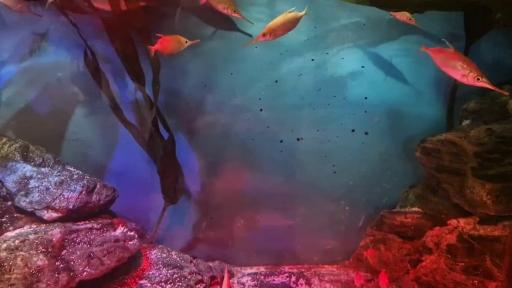Fish: (422, 39, 509, 95), (243, 6, 307, 46), (181, 6, 252, 37), (361, 48, 412, 87), (200, 0, 253, 24), (148, 34, 199, 56), (0, 0, 41, 17), (389, 12, 421, 27), (364, 248, 383, 269), (364, 248, 378, 266), (91, 0, 111, 11), (378, 270, 389, 287), (222, 266, 230, 287), (354, 272, 364, 287), (46, 0, 54, 8)
